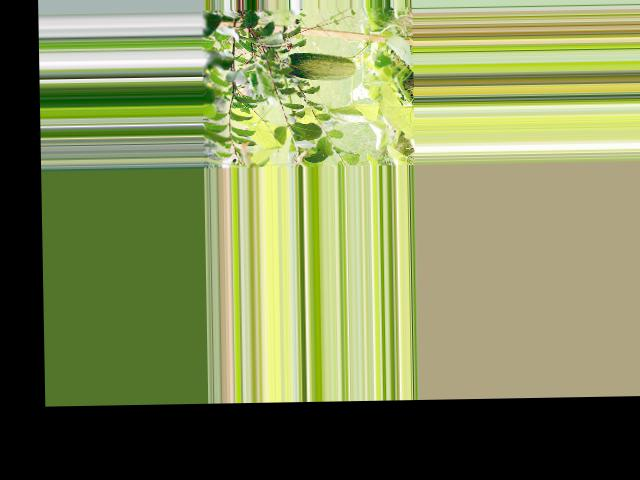cucumber: (280, 50, 356, 80)
